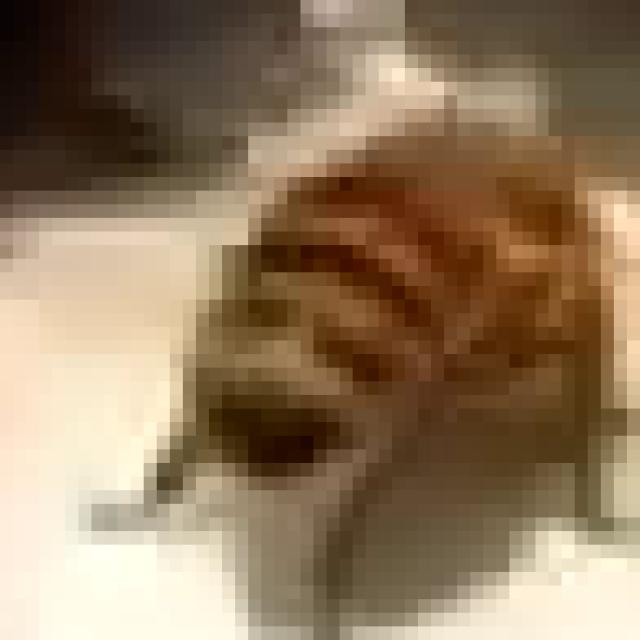honeybee: (181, 81, 635, 585)
